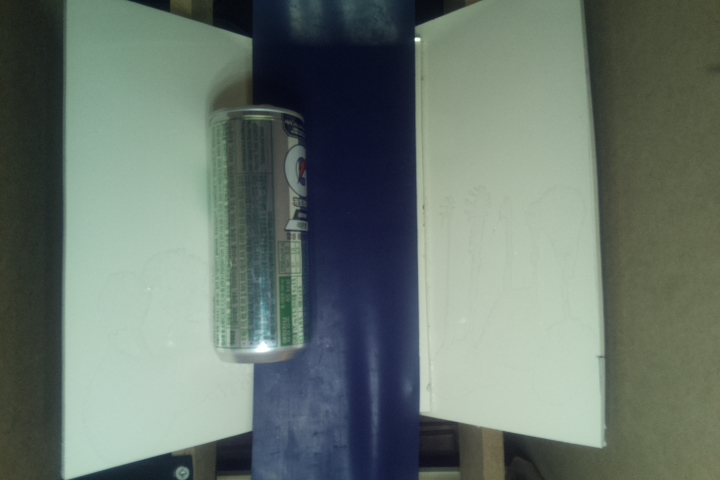can: (206, 106, 310, 366)
